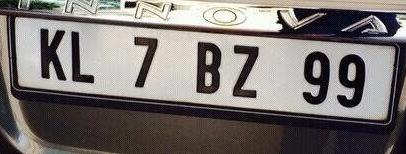7: (131, 34, 159, 88)
9: (333, 52, 368, 108), (300, 47, 332, 106)
B: (193, 39, 222, 97)
K: (35, 25, 67, 81)
L: (67, 28, 95, 85)
Z: (229, 41, 261, 100)
